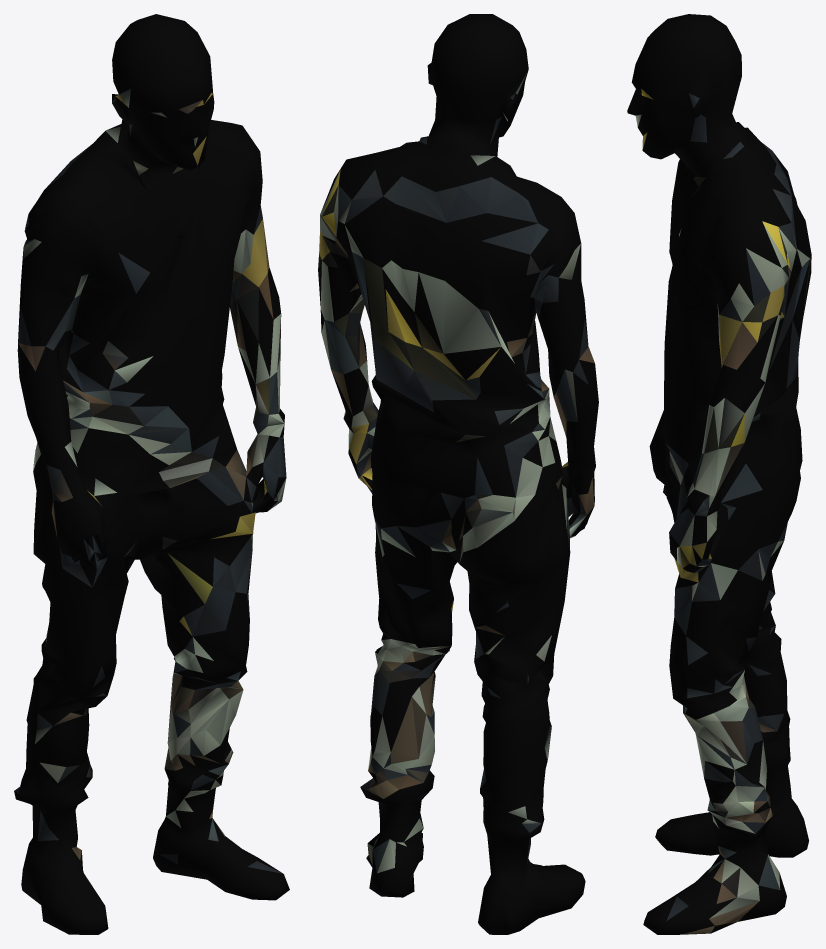
File: Rust.fbx
The picture shows the model from 3 angles, left to right: view 1: azimuth 30°, elevation 25°; view 2: azimuth 150°, elevation 25°; view 3: azimuth 270°, elevation 25°; orthographic projection. The views are drawn at different scales.
Parts seen in each view (by area): view 1: RUST_3d_Low.001; view 2: RUST_3d_Low.001; view 3: RUST_3d_Low.001.
Boxes of the visible parts, bbox=[...] form: RUST_3d_Low.001: bbox=[14, 14, 289, 934]; RUST_3d_Low.001: bbox=[318, 14, 598, 934]; RUST_3d_Low.001: bbox=[627, 14, 811, 934].
Size of the model in its own units: 53.84 by 173 by 33.46.
